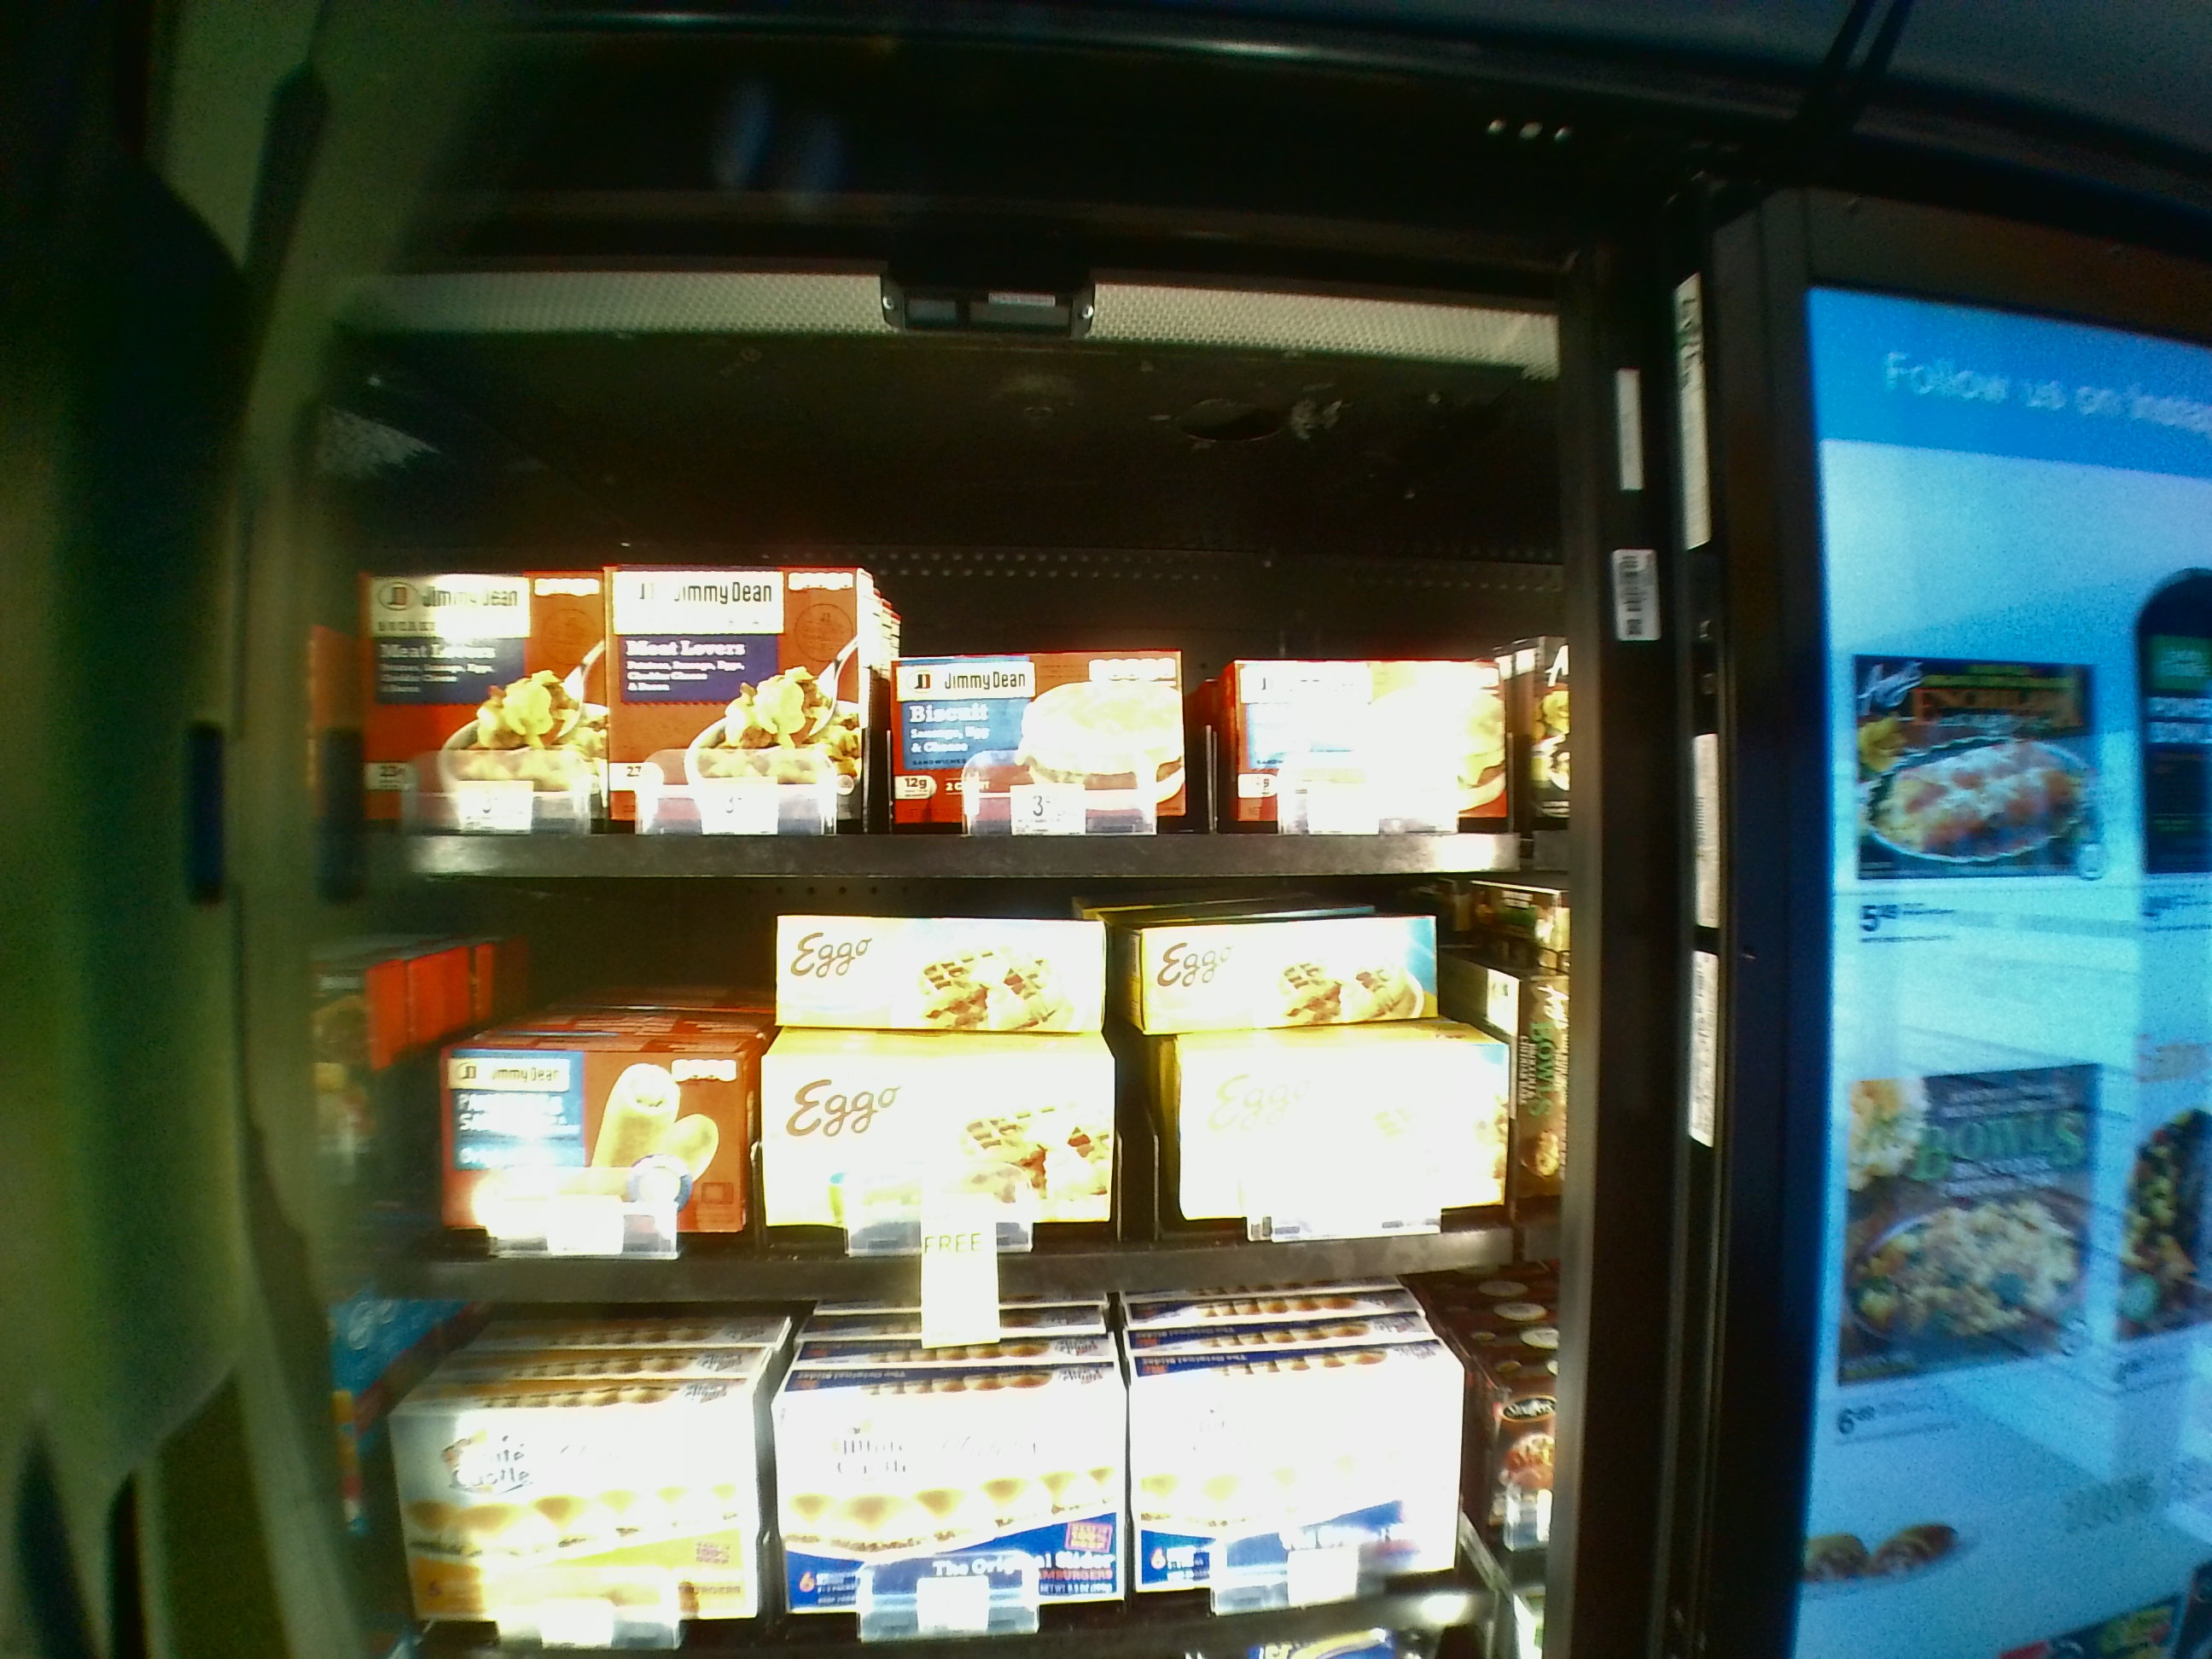shelf: (307, 373, 1569, 873), (301, 887, 1566, 1303)
